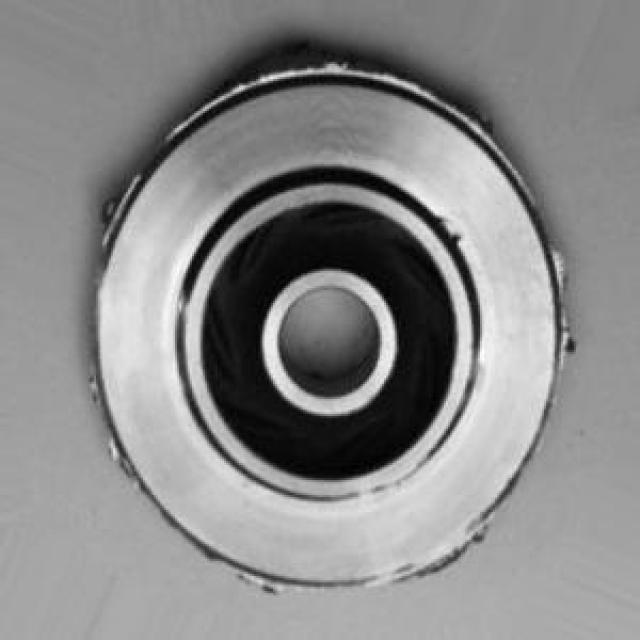Defect: (252, 44, 370, 86), (81, 179, 145, 232), (537, 237, 573, 300)
